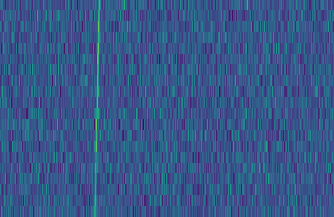signal: (88, 0, 102, 217)
